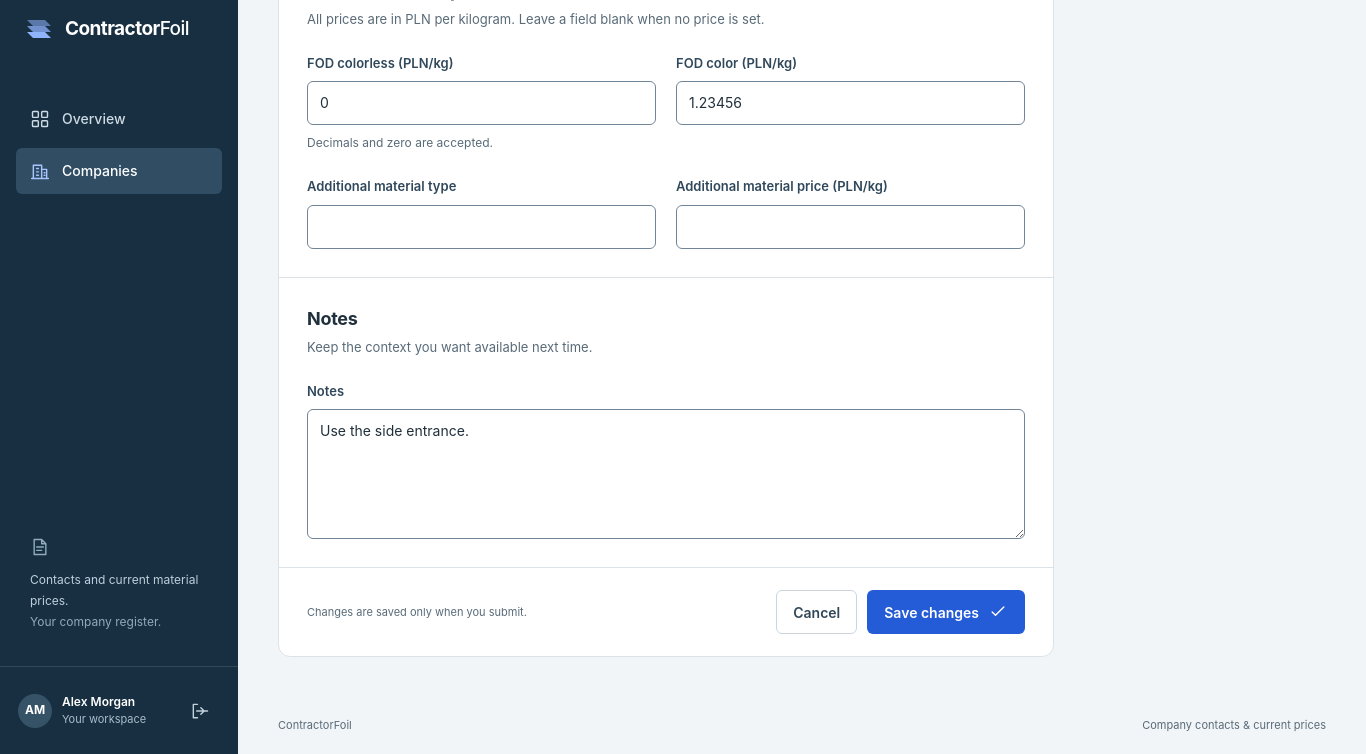
Test: sends only a changed note, preserving legacy dates and price precision
(page scrolled)
Replace the text in the text box labelled "Notes" with "Call reception.": (666, 474) [307, 409, 1025, 539]
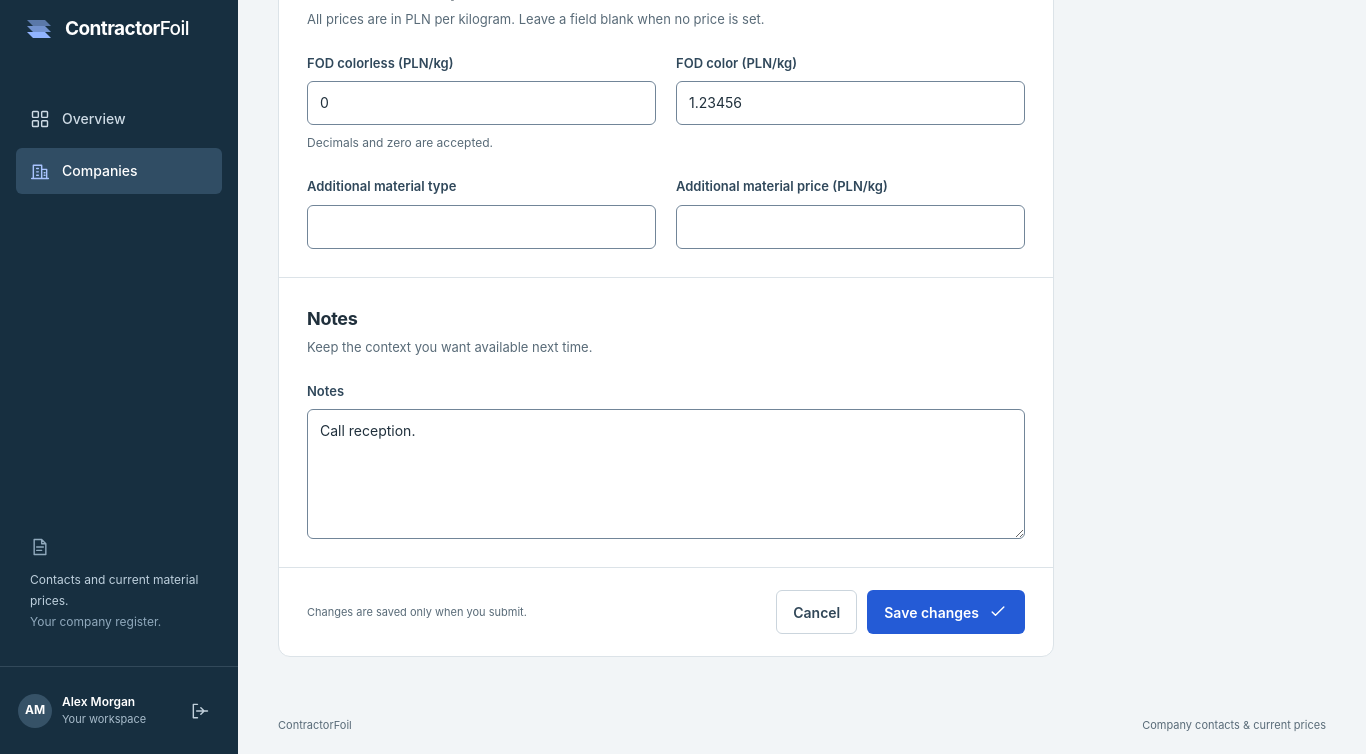
Click the button "Save changes": click(946, 612) [867, 590, 1025, 634]
(page scrolled)
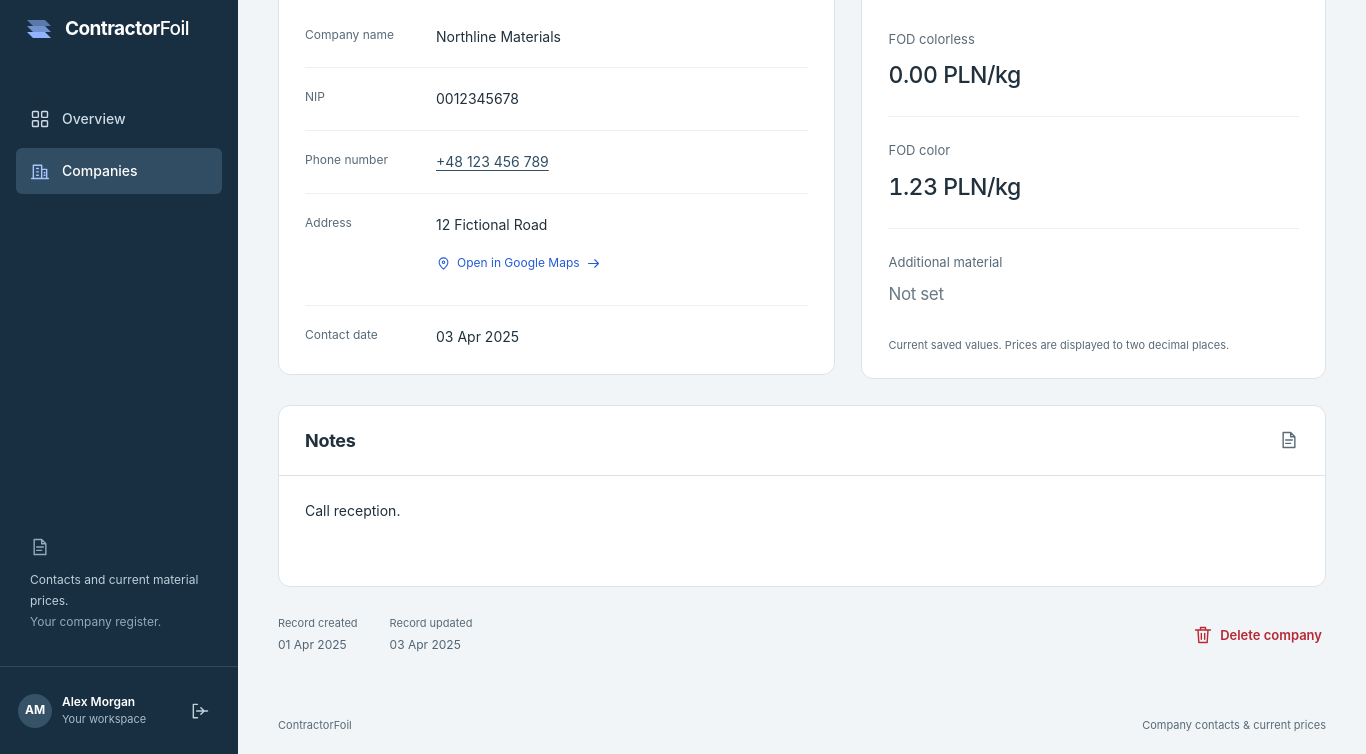
Now the text "Call reception." is shown, box [305, 502, 400, 519]
